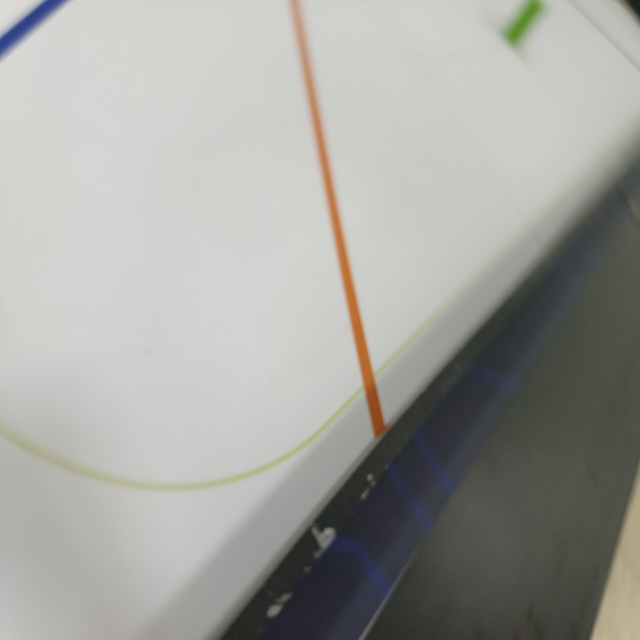blue line: (0, 0, 72, 55)
green rectangular prism: (489, 0, 551, 51)
orange line: (291, 0, 383, 430)
